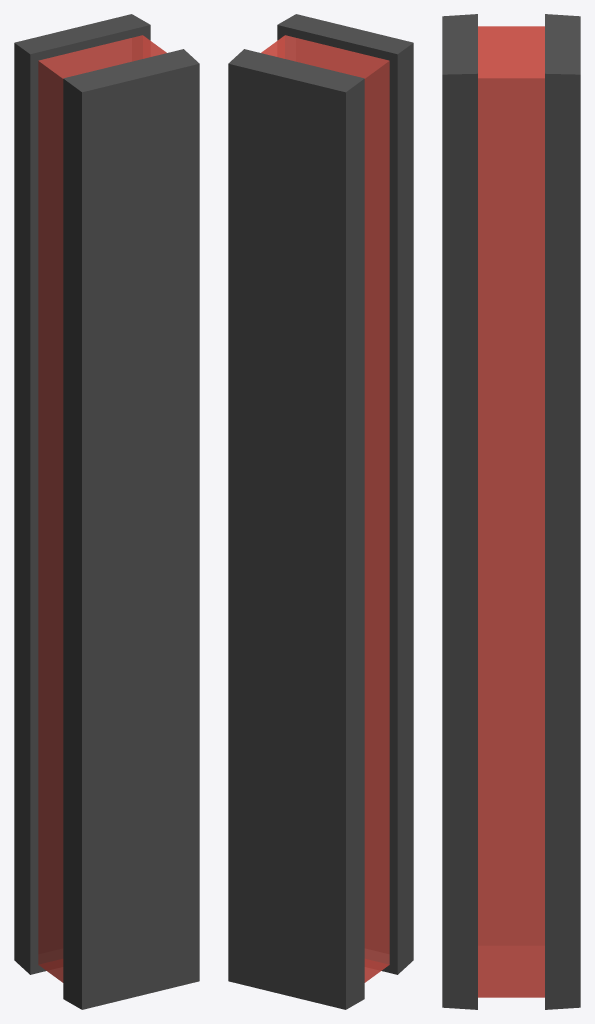
File: PIllar 1.fbx
The picture shows the model from 3 angles, left to right: view 1: azimuth 30°, elevation 25°; view 2: azimuth 150°, elevation 25°; view 3: azimuth 270°, elevation 25°; orthographic projection.
Visible parts, largest first — view 1: Cube; view 2: Cube; view 3: Cube.
Boxes of the visible parts, <box> form: Cube: <box>14,14,199,1009</box>; Cube: <box>228,14,413,1009</box>; Cube: <box>442,14,580,1009</box>.
Bounding box in the file's own units: 225 × 1681 × 230.
